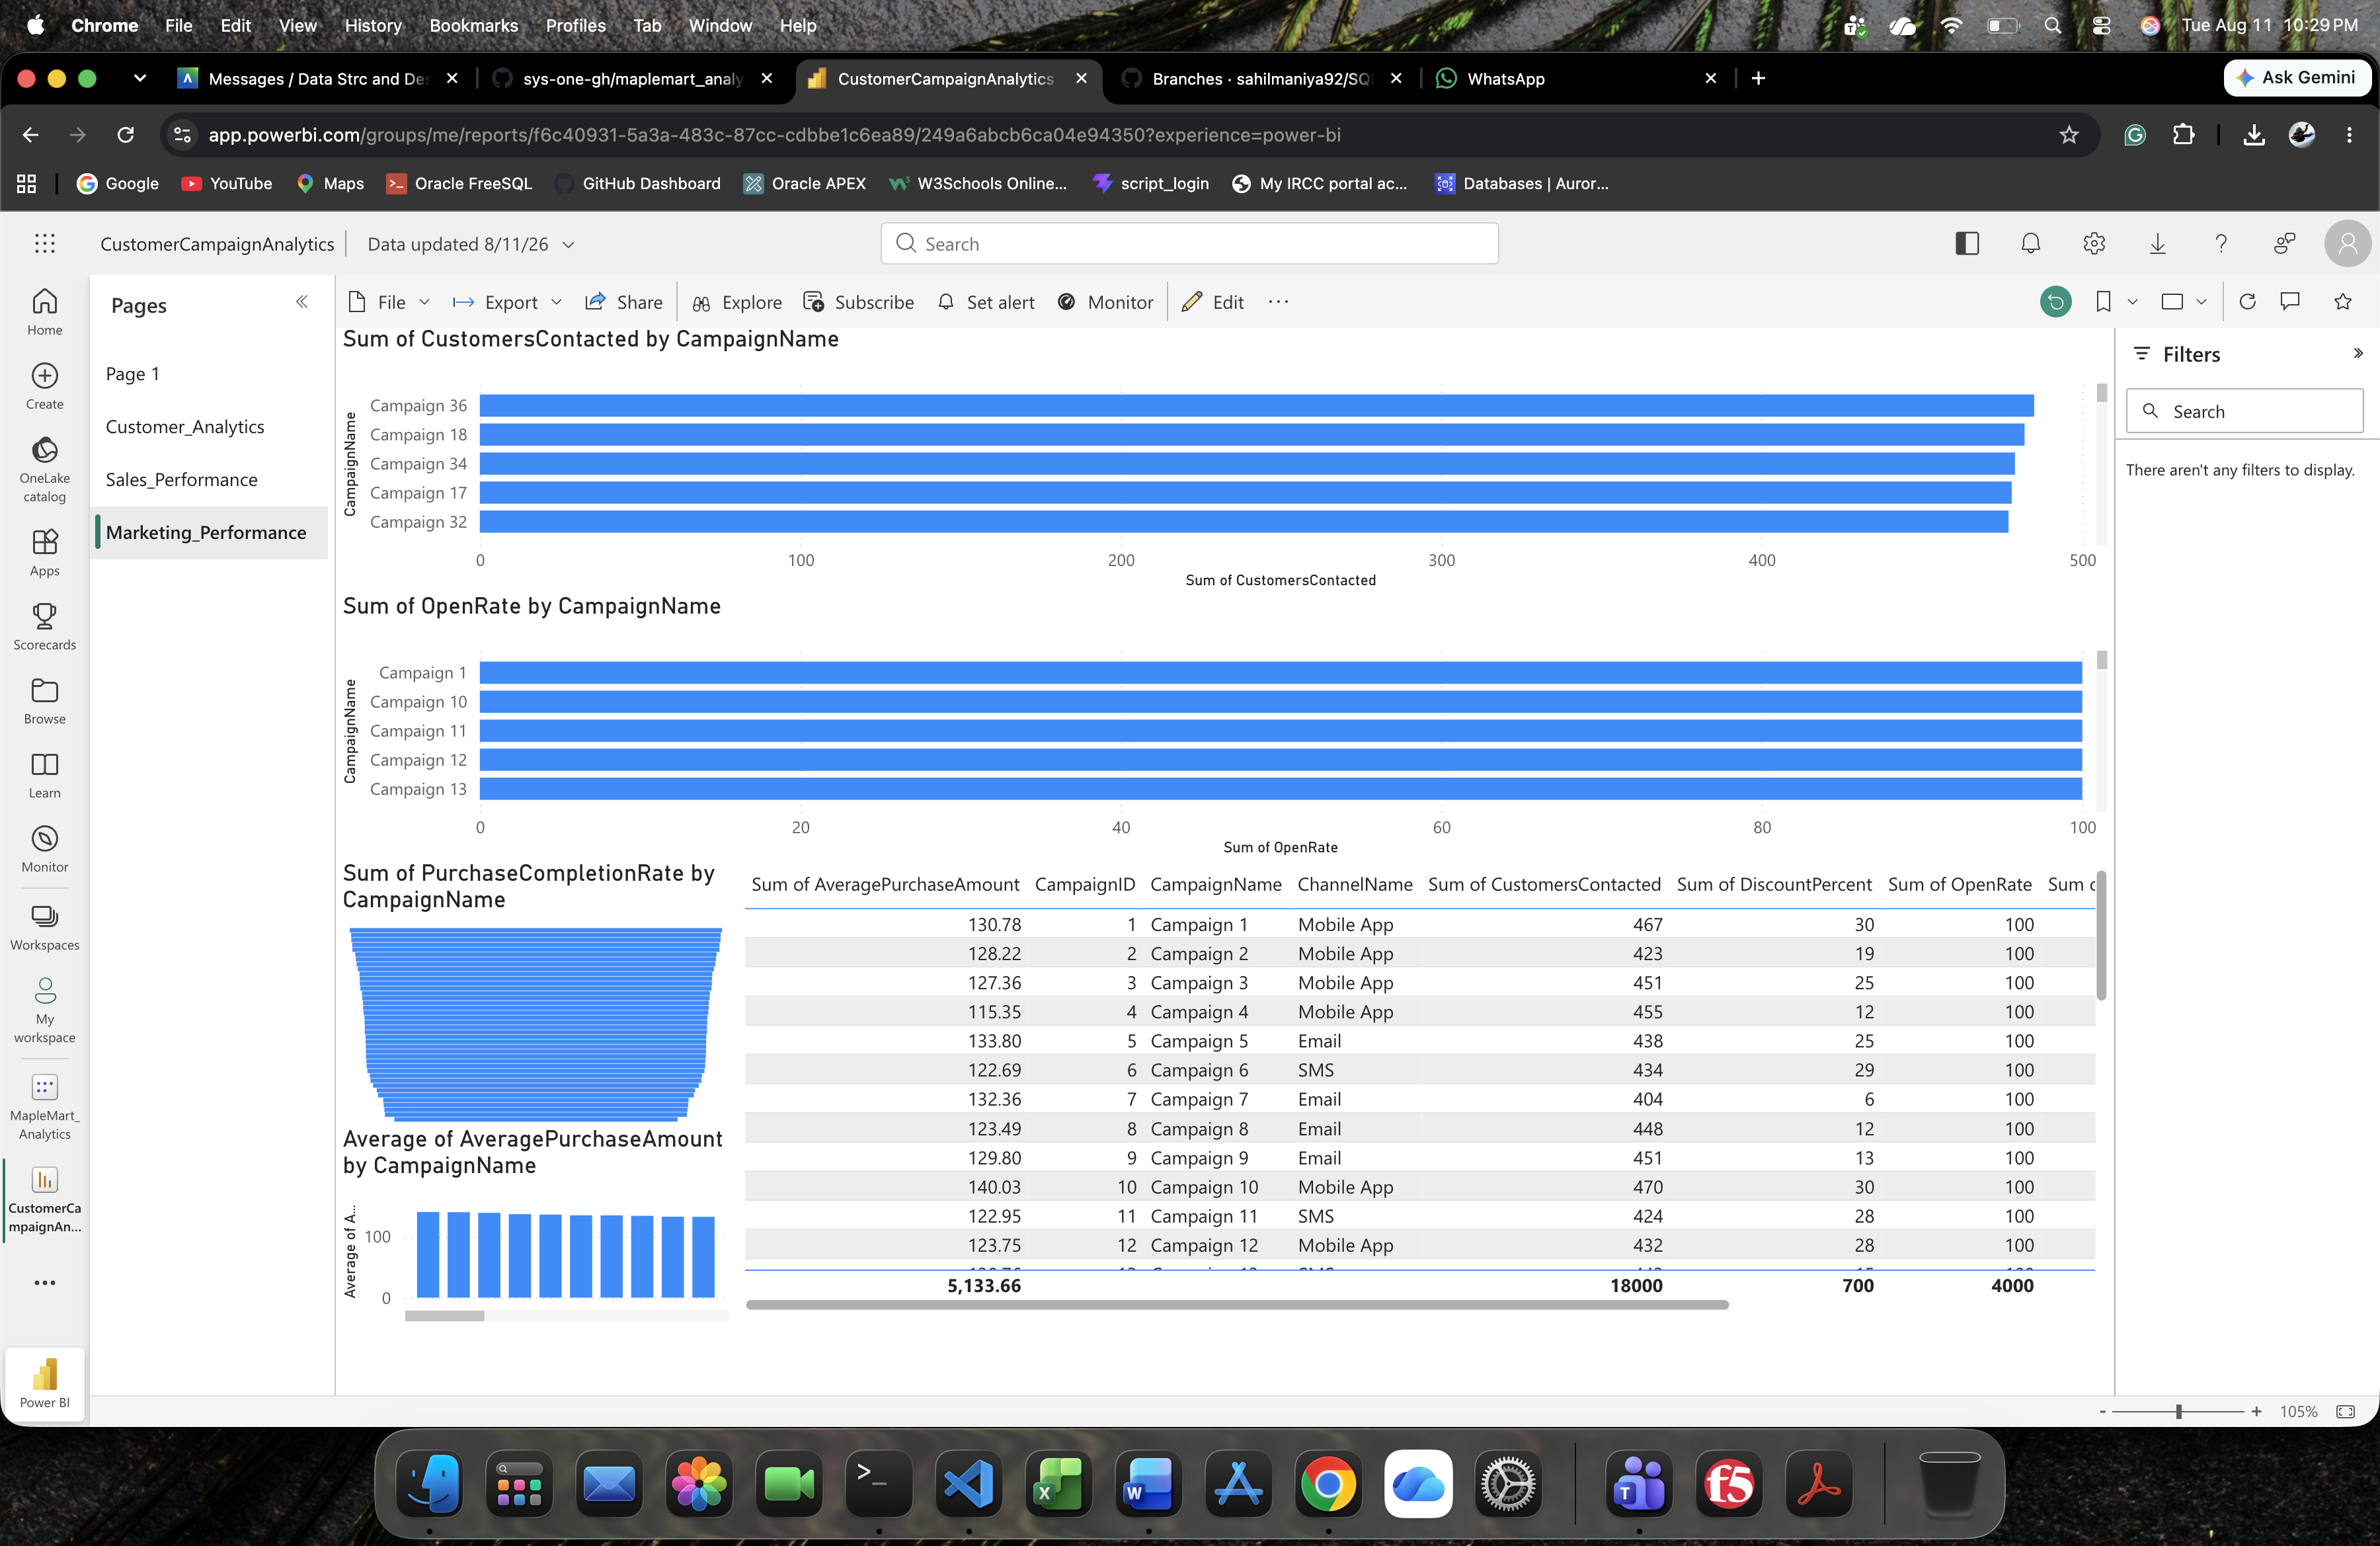

The page's visual inventory and layout, read from the dashboard file:
{"tool":"powerbi","page":{"name":"Marketing_Performance","canvas":[1280,720],"ordinal":3},"visuals":[{"type":"barChart","fields":{"Category":["vwCampaignPerformance.CampaignName"],"Y":["Sum(vwCampaignPerformance.CustomersContacted)"]},"box":[0,0,1280,192],"z":0},{"type":"barChart","fields":{"Category":["vwCampaignPerformance.CampaignName"],"Y":["Sum(vwCampaignPerformance.OpenRate)"]},"box":[0,192,1280,192],"z":1000},{"type":"funnel","fields":{"Category":["vwCampaignPerformance.CampaignName"],"Y":["Sum(vwCampaignPerformance.PurchaseCompletionRate)"]},"box":[0,384,288,192],"z":2000},{"type":"columnChart","fields":{"Category":["vwCampaignPerformance.CampaignName"],"Y":["Avg(vwCampaignPerformance.AveragePurchaseAmount)"]},"box":[0,576,288,144],"z":3000},{"type":"tableEx","fields":{"Values":["Sum(vwCampaignPerformance.AveragePurchaseAmount)","vwCampaignPerformance.CampaignID","vwCampaignPerformance.CampaignName","vwCampaignPerformance.ChannelName","Sum(vwCampaignPerformance.CustomersContacted)","Sum(vwCampaignPerformance.DiscountPercent)","Sum(vwCampaignPerformance.OpenRate)","Sum(vwCampaignPerformance.PurchaseCompletionRate)","Sum(vwCampaignPerformance.TotalRevenueGenerated)"]},"box":[288,384,992,328],"z":4000}]}

Visuals, with their boxes on the page's 1280x720 design canvas (x1, y1, x2, y2). These are canvas units, not pixel positions in the 2380x1546 screenshot, which may show the page scaled, cropped or inside an application window:
barChart - vwCampaignPerformance.CampaignName x Sum(vwCampaignPerformance.CustomersContacted): left=0, top=0, right=1280, bottom=192
barChart - vwCampaignPerformance.CampaignName x Sum(vwCampaignPerformance.OpenRate): left=0, top=192, right=1280, bottom=384
funnel - vwCampaignPerformance.CampaignName x Sum(vwCampaignPerformance.PurchaseCompletionRate): left=0, top=384, right=288, bottom=576
columnChart - vwCampaignPerformance.CampaignName x Avg(vwCampaignPerformance.AveragePurchaseAmount): left=0, top=576, right=288, bottom=720
tableEx - Sum(vwCampaignPerformance.AveragePurchaseAmount) x vwCampaignPerformance.CampaignID: left=288, top=384, right=1280, bottom=712
